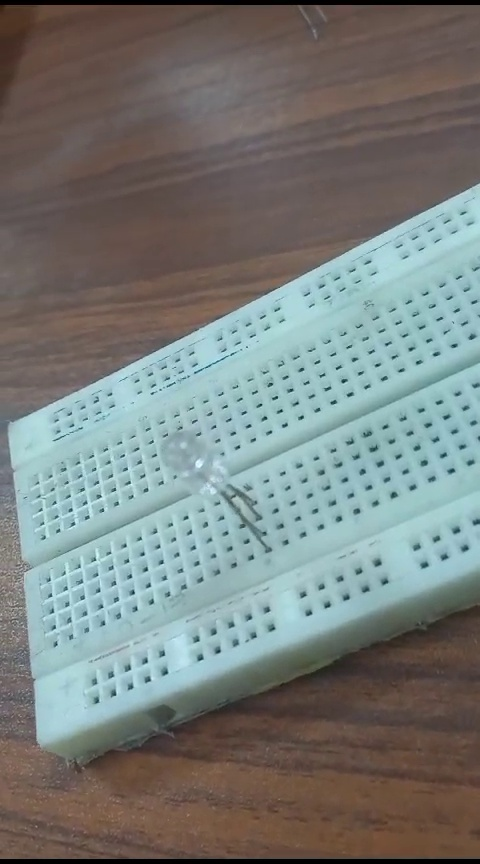LED: (134, 428, 266, 557)
